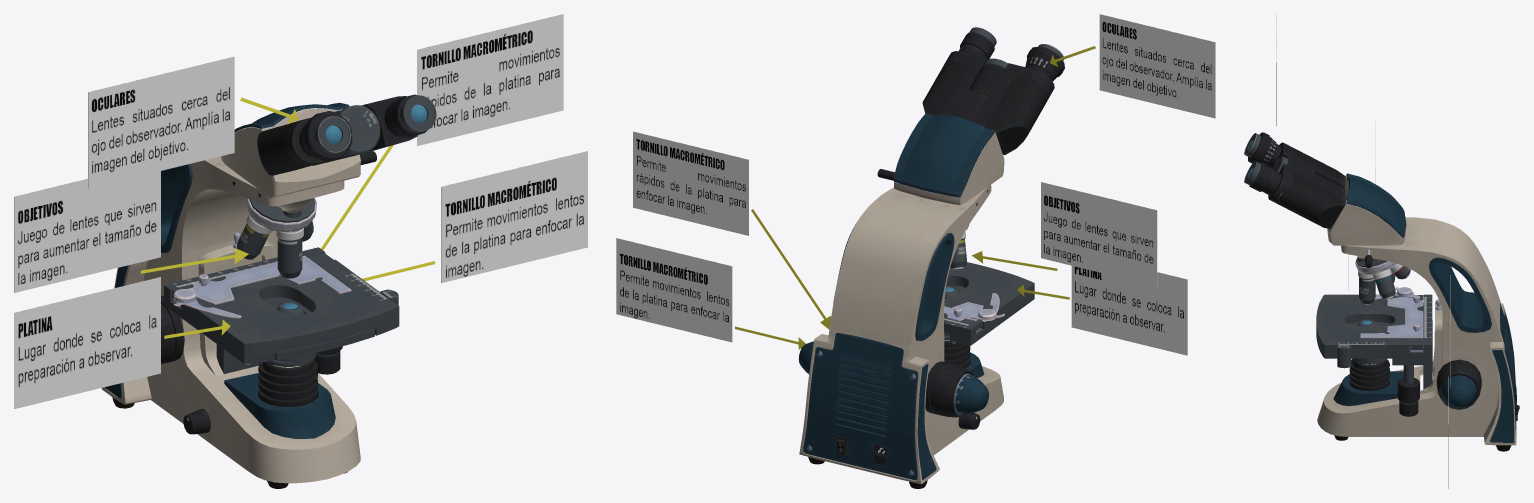
Rendered from micro.glb.
3 views of the same model, side by side, from view 1: azimuth 30°, elevation 25°; view 2: azimuth 150°, elevation 25°; view 3: azimuth 270°, elevation 25° (orthographic). The views are drawn at different scales.
Visible parts, largest first — view 1: MicroscopeBase_LowPoly__0, tornillo, platina, oculares, tornillo2, objetivos, Platform_LowPoly__0, BinocularRotationalHead_LowPoly__0, LightProtection_LowPoly__0, Binocular1_LowPoly__0, SlideHolder_LowPoly__0, HeadLight_LowPoly__0 (+11 smaller); view 2: MicroscopeBase_LowPoly__0, BackPanel_LowPoly__0, objetivos, tornillo, oculares, tornillo2, platina, Binocular1_LowPoly__0, BinocularRotationalHeadTop_LowPoly__0, Platform_LowPoly__0, Binocular2_LowPoly__0, Handle_LowPoly__0 (+4 smaller); view 3: MicroscopeBase_LowPoly__0, Platform_LowPoly__0, Binocular2_LowPoly__0, Handle_LowPoly__0, BinocularRotationalHead_LowPoly__0, BinocularRotationalHeadTop_LowPoly__0, Binocular1_LowPoly__0, SidePanel_LowPoly__0, SlideHolder_LowPoly__0, LightProtection_LowPoly__0, HeadLight_LowPoly__0, FineAdjustment_LowPoly__0 (+8 smaller).
Part boxes in pixels (left/top/right/bottom): MicroscopeBase_LowPoly__0: left=101, top=156, right=360, bottom=483; tornillo: left=441, top=151, right=587, bottom=283; platina: left=14, top=277, right=160, bottom=408; oculares: left=88, top=56, right=234, bottom=188; tornillo2: left=417, top=14, right=563, bottom=145; objetivos: left=14, top=171, right=160, bottom=292; Platform_LowPoly__0: left=164, top=247, right=399, bottom=363; BinocularRotationalHead_LowPoly__0: left=221, top=108, right=360, bottom=198; LightProtection_LowPoly__0: left=224, top=373, right=335, bottom=438; Binocular1_LowPoly__0: left=257, top=110, right=352, bottom=175; SlideHolder_LowPoly__0: left=191, top=255, right=351, bottom=304; HeadLight_LowPoly__0: left=258, top=359, right=317, bottom=406; MicroscopeBase_LowPoly__0: left=799, top=184, right=1003, bottom=484; BackPanel_LowPoly__0: left=803, top=333, right=918, bottom=480; objetivos: left=1041, top=182, right=1157, bottom=286; tornillo: left=616, top=238, right=732, bottom=342; oculares: left=1099, top=14, right=1215, bottom=118; tornillo2: left=633, top=131, right=748, bottom=235; platina: left=1071, top=266, right=1187, bottom=355; Binocular1_LowPoly__0: left=969, top=46, right=1064, bottom=154; BinocularRotationalHeadTop_LowPoly__0: left=894, top=113, right=995, bottom=197; Platform_LowPoly__0: left=944, top=262, right=1034, bottom=345; Binocular2_LowPoly__0: left=922, top=32, right=994, bottom=121; Handle_LowPoly__0: left=833, top=224, right=954, bottom=340; MicroscopeBase_LowPoly__0: left=1317, top=217, right=1516, bottom=445; Platform_LowPoly__0: left=1316, top=294, right=1432, bottom=358; Binocular2_LowPoly__0: left=1249, top=162, right=1345, bottom=228; Handle_LowPoly__0: left=1429, top=257, right=1491, bottom=332; BinocularRotationalHead_LowPoly__0: left=1327, top=176, right=1406, bottom=245; BinocularRotationalHeadTop_LowPoly__0: left=1346, top=173, right=1406, bottom=237; Binocular1_LowPoly__0: left=1248, top=132, right=1345, bottom=190; SidePanel_LowPoly__0: left=1490, top=350, right=1514, bottom=442; SlideHolder_LowPoly__0: left=1360, top=295, right=1423, bottom=338; LightProtection_LowPoly__0: left=1333, top=371, right=1403, bottom=406; HeadLight_LowPoly__0: left=1349, top=359, right=1389, bottom=391; FineAdjustment_LowPoly__0: left=1441, top=375, right=1477, bottom=409.
Size of the model in its own units: 1.72 by 1.23 by 0.9442.
7 materials, 7 textured.
